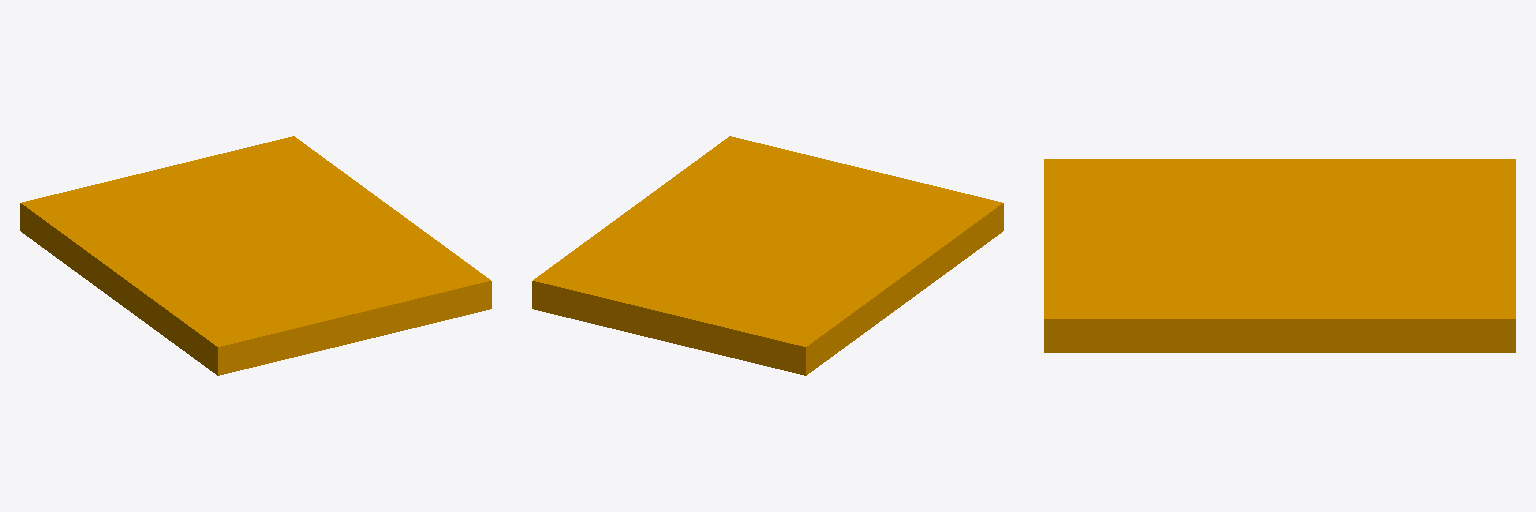
The robot description file, URDF, robot "bandeja_piezas":
<?xml version="1.0"?>
<!-- Componente "bandeja_piezas" de la biblioteca del contrato 2.0. Origen = centro geométrico. -->
<robot name="bandeja_piezas">
  <link name="bandeja_piezas">
    <visual><geometry><box size="0.2 0.25 0.02"/></geometry></visual>
    <collision><geometry><box size="0.2 0.25 0.02"/></geometry></collision>
  </link>
</robot>

--- What the picture shows (computed from the rendered views, not written in the file) ---
The picture shows the robot from 3 angles, left to right: view 1: azimuth 30°, elevation 25°; view 2: azimuth 150°, elevation 25°; view 3: azimuth 270°, elevation 25°; orthographic projection.
Model bandeja_piezas with 1 links and 0 joints (none), rooted at bandeja_piezas, posed every joint at zero.
Links seen in each view (by area): view 1: bandeja_piezas; view 2: bandeja_piezas; view 3: bandeja_piezas.
Link boxes in pixels (x1,y1,x2,y2): bandeja_piezas: (20,136,491,375); bandeja_piezas: (532,136,1003,375); bandeja_piezas: (1044,159,1515,352).
Bounding box of the posed robot: 0.2 × 0.25 × 0.02 m (x, y, z).
Geometry: primitives only (box / cylinder / sphere), no mesh files.
